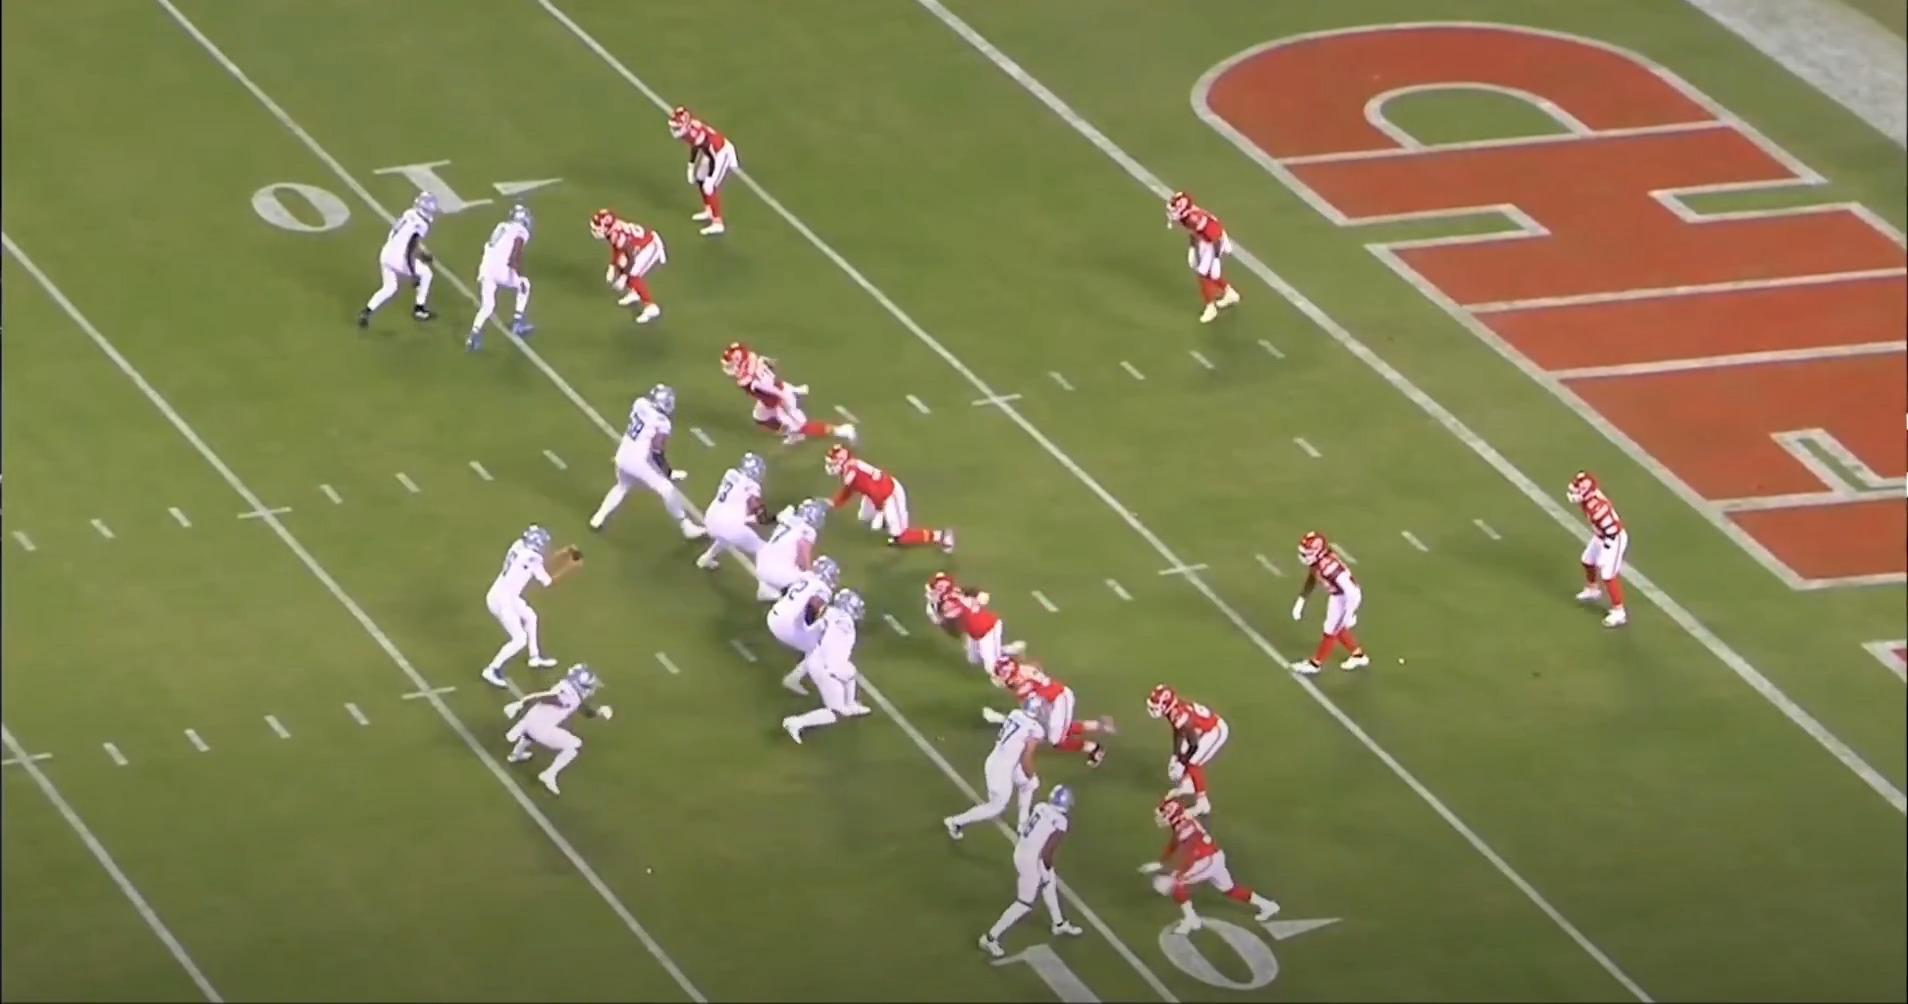player: (1143, 792, 1281, 936), (981, 785, 1088, 968), (944, 693, 1065, 846), (582, 378, 697, 538), (993, 647, 1127, 774), (812, 447, 957, 564), (720, 338, 860, 455), (780, 589, 876, 756), (485, 520, 575, 689), (497, 664, 606, 802), (356, 187, 452, 331), (460, 201, 543, 360), (1149, 684, 1241, 827), (1291, 529, 1377, 681), (924, 567, 1028, 684), (1569, 472, 1640, 637), (761, 558, 840, 699), (662, 104, 739, 245), (697, 453, 781, 580), (1170, 190, 1248, 326), (583, 205, 665, 327), (757, 493, 831, 609)
